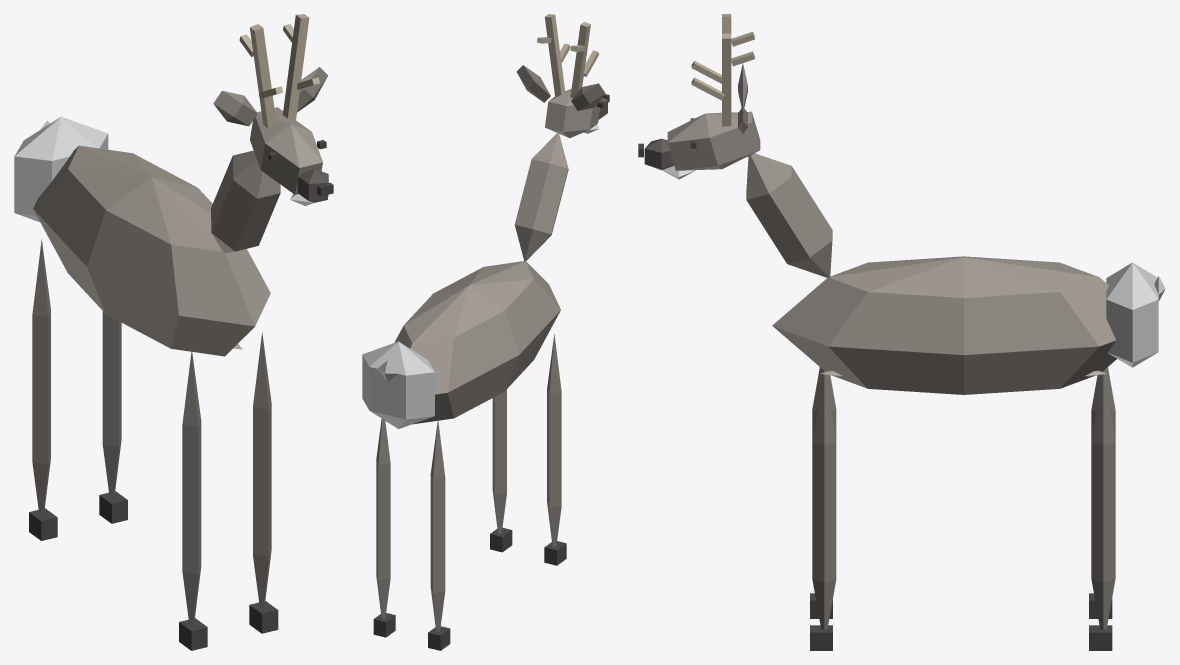
Rendered from kauris.glb.
3 views of the same model, side by side, from view 1: azimuth 30°, elevation 25°; view 2: azimuth 150°, elevation 25°; view 3: azimuth 270°, elevation 25° (orthographic). The views are drawn at different scales.
Visible parts, largest first — view 1: runko, paa, jalka_eo, jalka_ev, jalka_to, kaula, jalka_tv, korva_o, korva_v; view 2: runko, paa, kaula, jalka_to, jalka_eo, jalka_tv, jalka_ev, korva_v, korva_o; view 3: runko, paa, kaula, jalka_tv, jalka_ev, jalka_to, jalka_eo.
Part boxes in pixels (x1,y1,x2,y2): runko: (14,116,270,356); paa: (239,14,333,205); jalka_eo: (179,349,207,650); jalka_ev: (249,332,278,633); jalka_to: (29,239,57,540); kaula: (211,150,280,253); jalka_tv: (99,311,127,523); korva_o: (213,90,257,126); korva_v: (297,67,328,112); runko: (362,261,560,429); paa: (537,14,609,138); kaula: (514,132,568,261); jalka_to: (428,419,450,650); jalka_eo: (544,334,566,565); jalka_tv: (373,419,395,637); jalka_ev: (490,389,512,552); korva_v: (516,65,550,102); korva_o: (571,83,605,110); runko: (772,256,1158,394); paa: (638,14,760,179); kaula: (746,153,832,277); jalka_tv: (1089,374,1115,650); jalka_ev: (810,374,836,650); jalka_to: (1089,367,1115,618); jalka_eo: (810,367,836,618).
Size of the model in its own units: 0.24 by 1.15 by 0.907.
